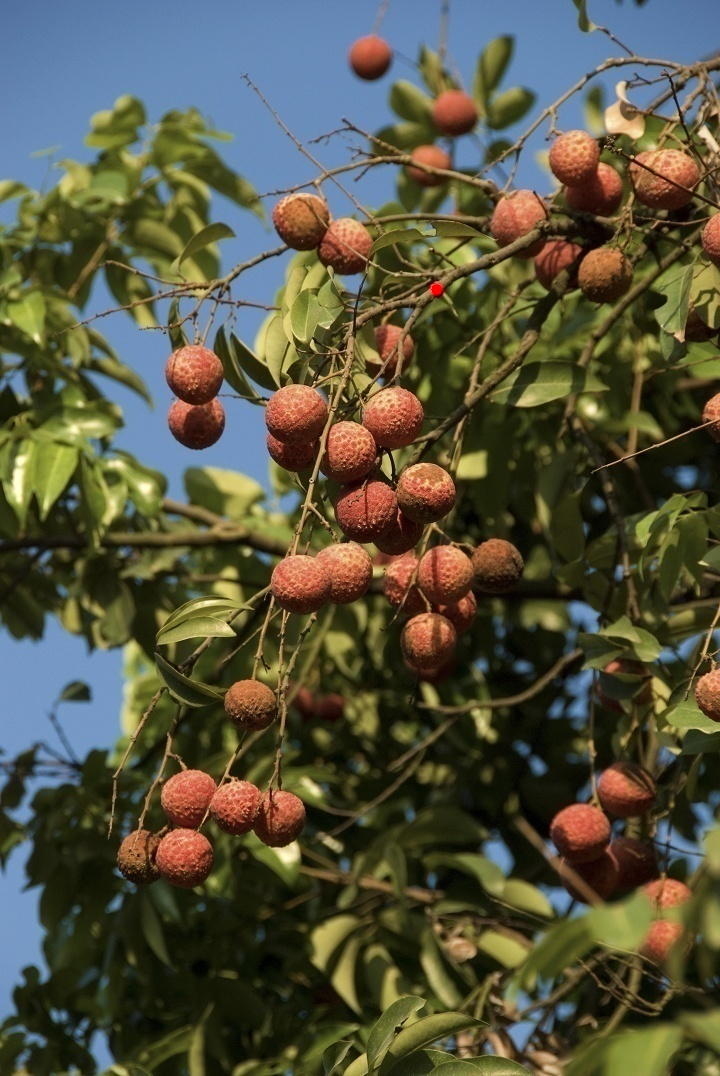litchi: (177, 354, 466, 652), (111, 685, 304, 877), (498, 133, 685, 295), (550, 771, 693, 957)
stem: (404, 233, 538, 317)
